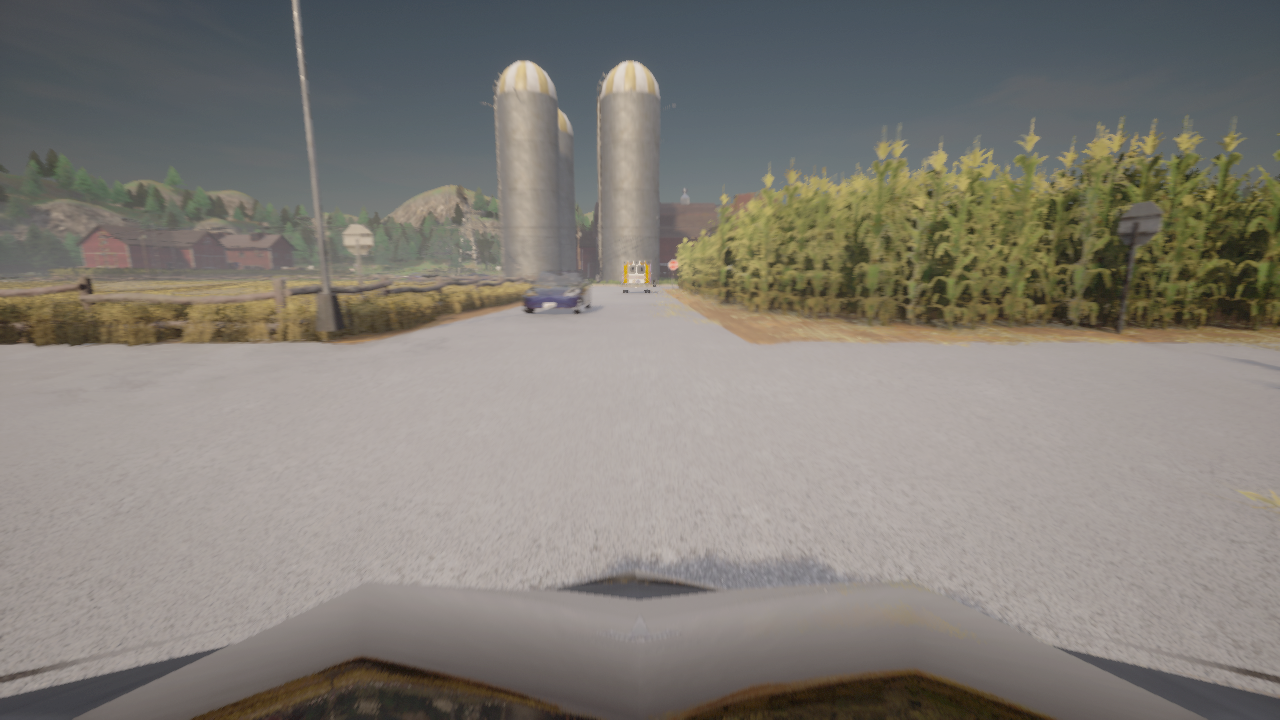cyclist: (0, 569, 1279, 719), (522, 270, 592, 313), (621, 259, 652, 292), (422, 269, 461, 281), (461, 272, 497, 280), (374, 271, 398, 279), (408, 273, 424, 280), (461, 272, 476, 276), (652, 278, 656, 287)
